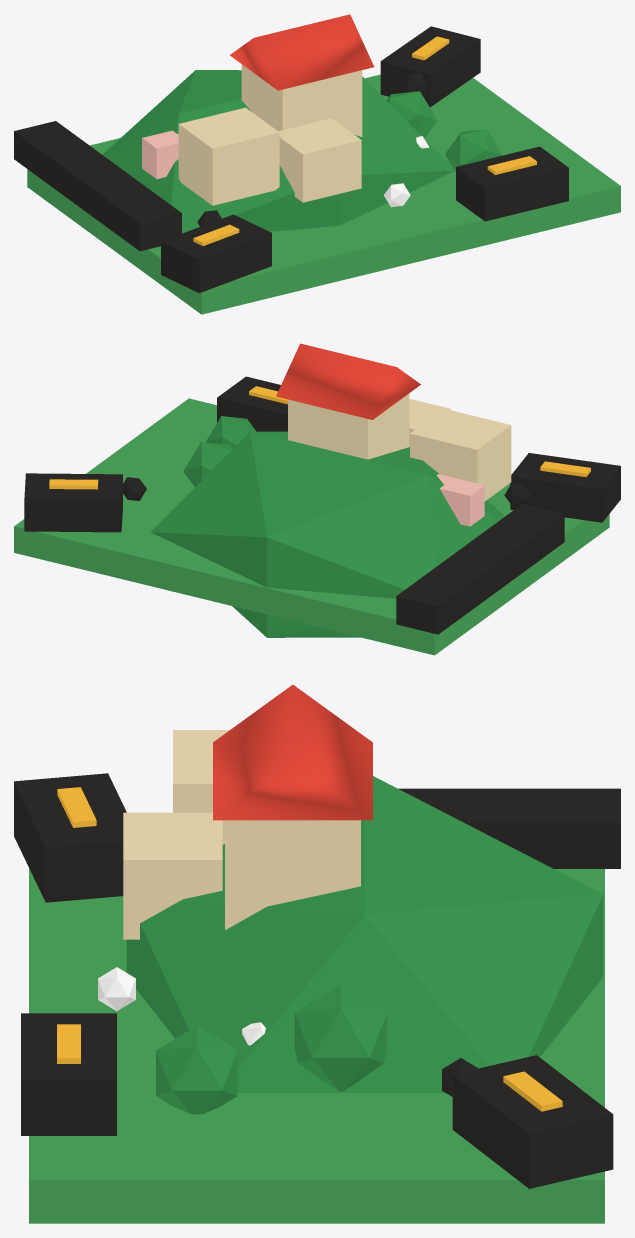
File: chugunsan.glb
The picture shows the model from 3 angles, top to bottom: view 1: azimuth 30°, elevation 25°; view 2: azimuth 150°, elevation 25°; view 3: azimuth 270°, elevation 25°; orthographic projection. The views are drawn at different scales.
Size of the model in its own units: 5.33 by 2.74 by 3.79.
